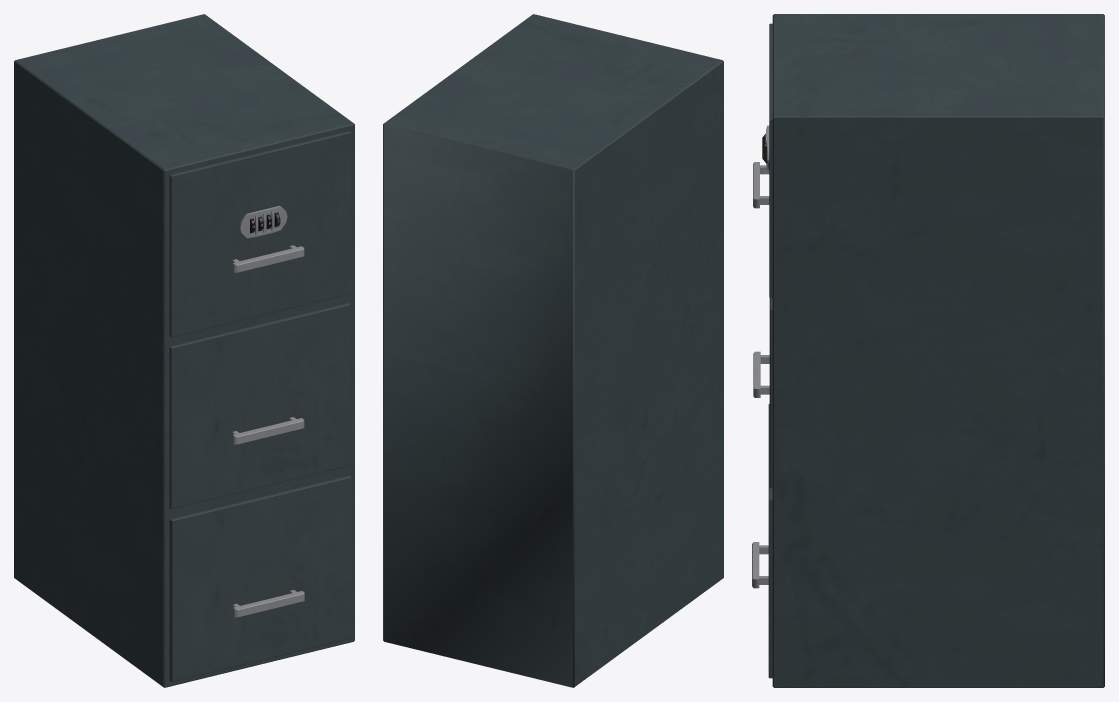
File: FileCabinet.fbx
3 views of the same model, side by side, from view 1: azimuth 30°, elevation 25°; view 2: azimuth 150°, elevation 25°; view 3: azimuth 270°, elevation 25° (orthographic). The views are drawn at different scales.
Parts seen in each view (by area): view 1: Locker1, DrawerBottomLocker1, DrawerMiddleLocker1, DrawerTopLocker; view 2: Locker1; view 3: Locker1, DrawerTopLocker, DrawerBottomLocker1, DrawerMiddleLocker1.
Part boxes in pixels (x1,y1,x2,y2): Locker1: (14, 14, 354, 687); DrawerBottomLocker1: (169, 475, 350, 681); DrawerMiddleLocker1: (169, 303, 350, 509); DrawerTopLocker: (169, 131, 350, 337); Locker1: (383, 14, 723, 687); Locker1: (772, 14, 1104, 687); DrawerTopLocker: (753, 23, 772, 298); DrawerBottomLocker1: (752, 403, 772, 678); DrawerMiddleLocker1: (753, 298, 772, 488).
Size of the model in its own units: 34.25 by 88.58 by 49.52.
